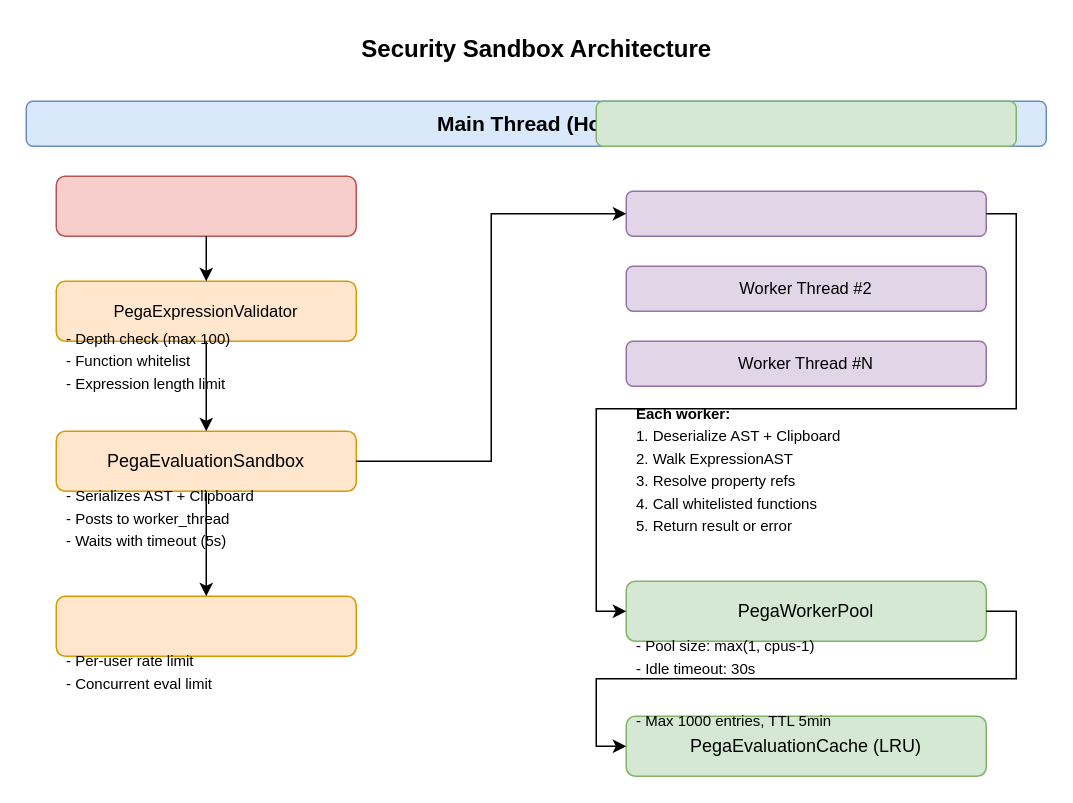
The diagram is 1073 pixels wide and 803 high, and some of its shapes have lost their labels. The centre of each missing label's shape, as x and y in pixels:
PegaRateLimiter: the point at 205,625
POST /api/pega/evaluate-expression: the point at 205,205
Worker Thread #1: the point at 805,213
Worker Thread Pool: the point at 805,123
